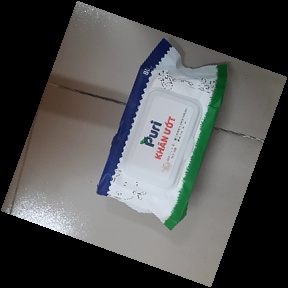Puri Trang: (90, 35, 233, 233)
